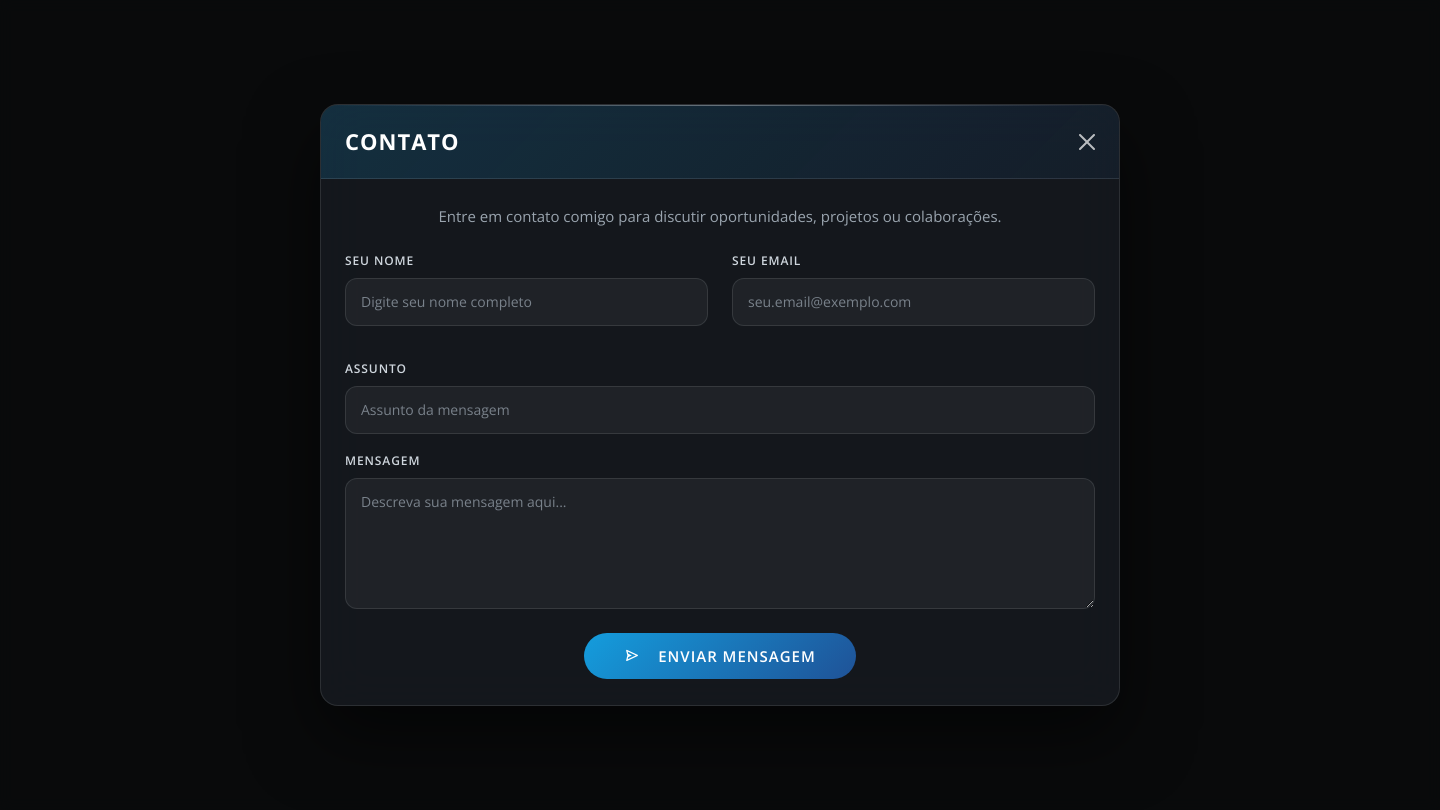
Test: <ContactModal /> › mostra erro e preserva o texto digitado quando o envio falha
This screenshot has width=1440, height=810.
Step 1. Type "Maria Souza" into the field labelled "Seu Nome" → (526, 302), box [345,278,708,326]
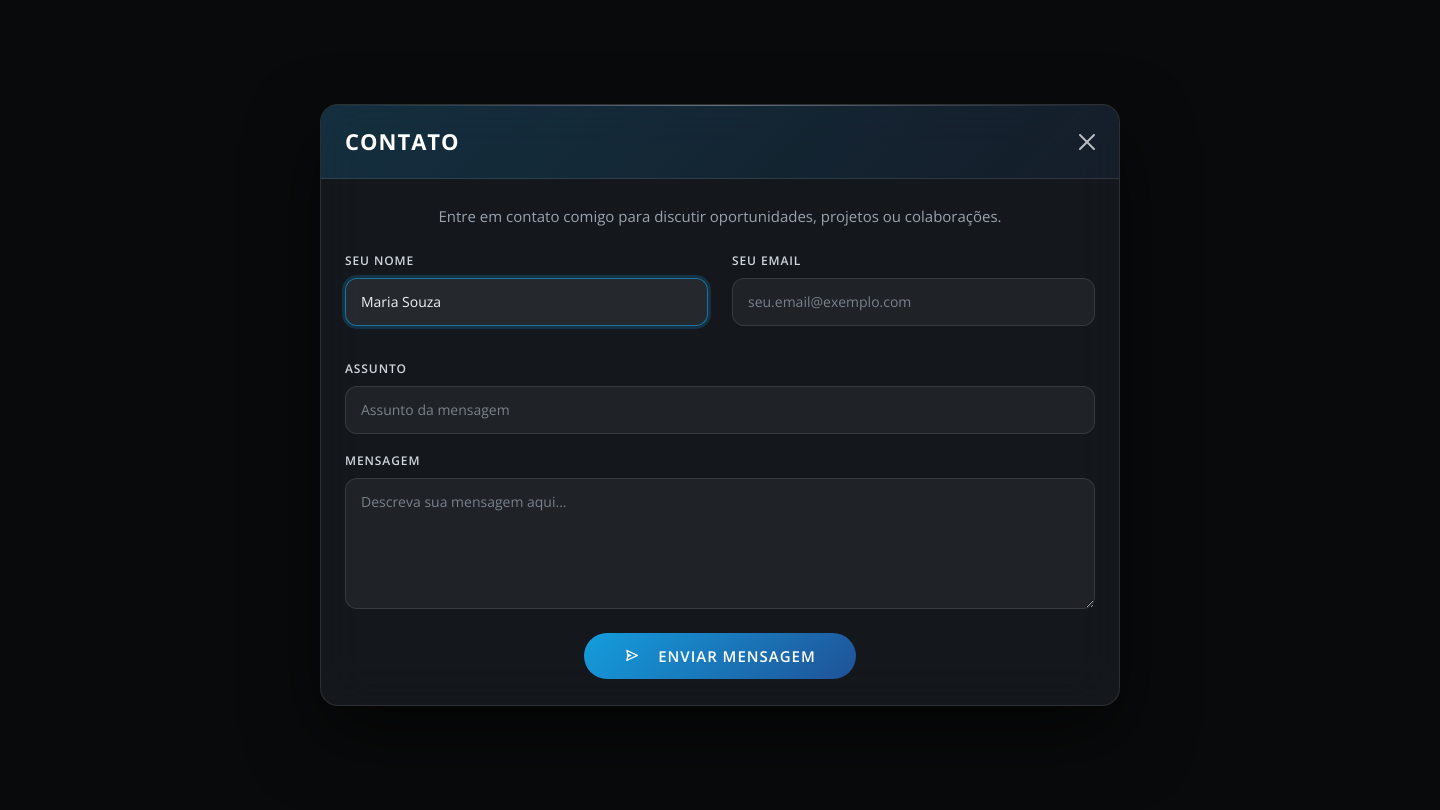
Step 2. Type "maria@exemplo.com" into the field labelled "Seu Email" → (914, 302), box [732,278,1095,326]
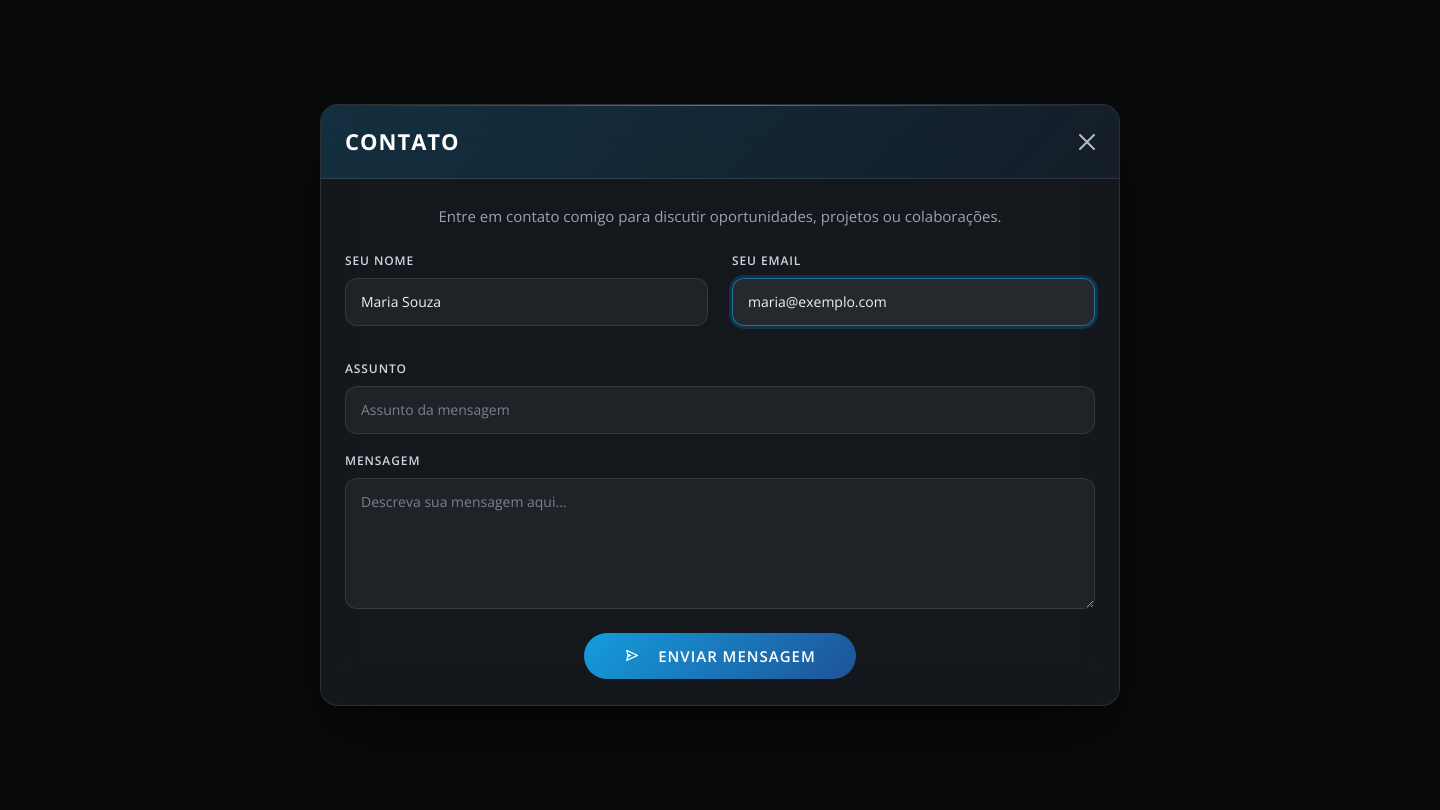
Step 3. Type "Oportunidade" into the field labelled "Assunto" → (720, 410), box [345,386,1095,434]
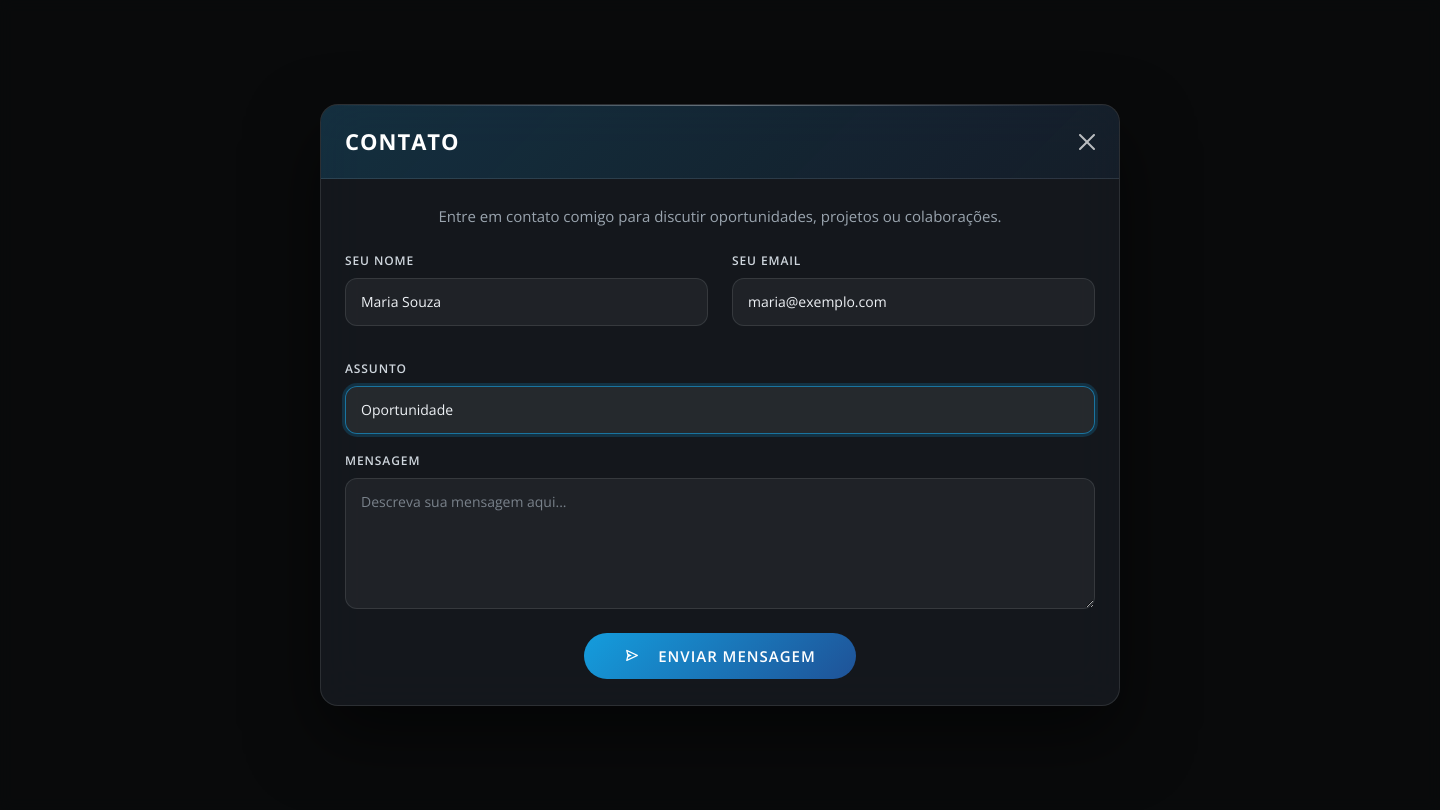
Step 4. Type "Olá, temos uma vaga de QA." into the text box labelled "Mensagem" → (720, 543), box [345,478,1095,608]
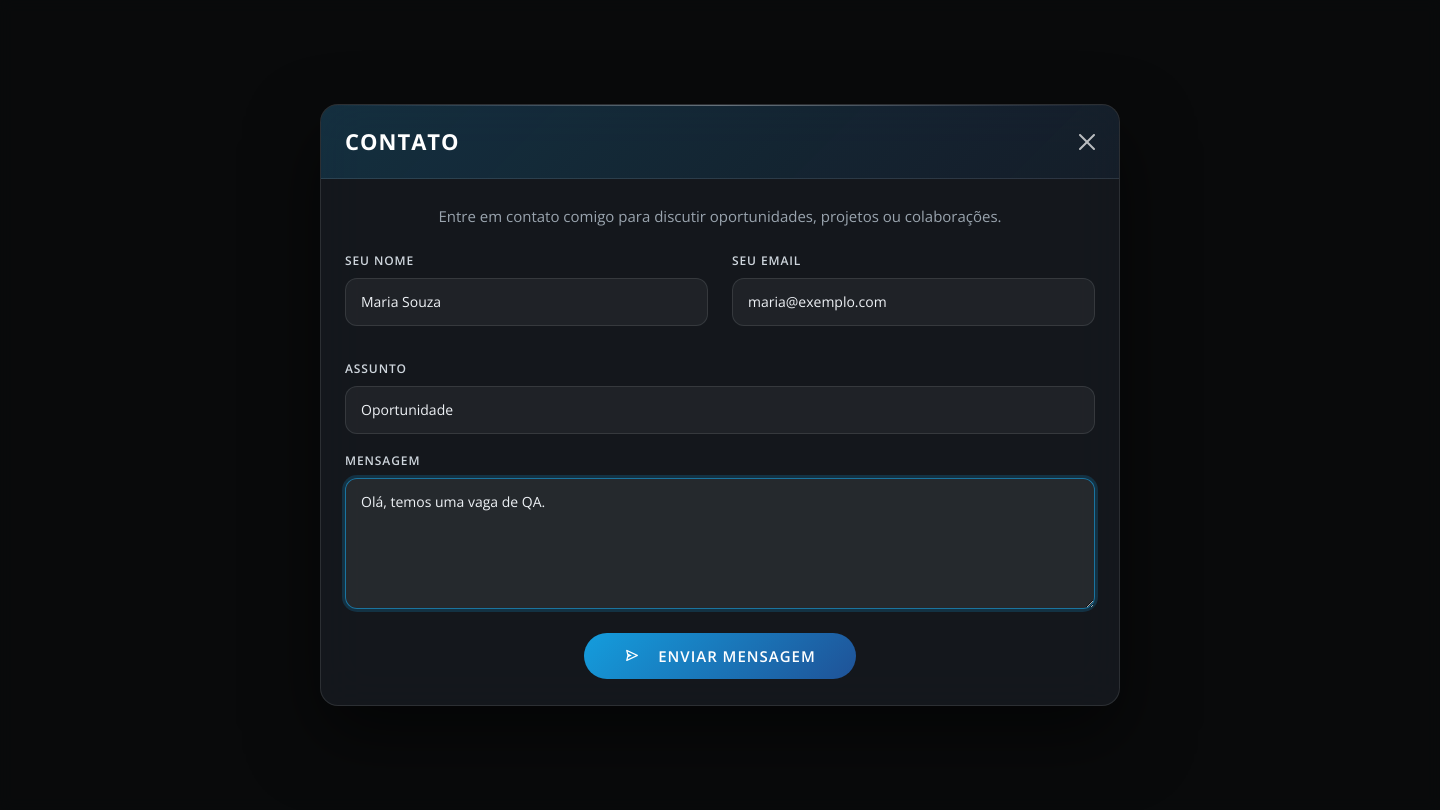
Step 5. Click the button "Enviar Mensagem" → (720, 656), box [584,632,856,679]
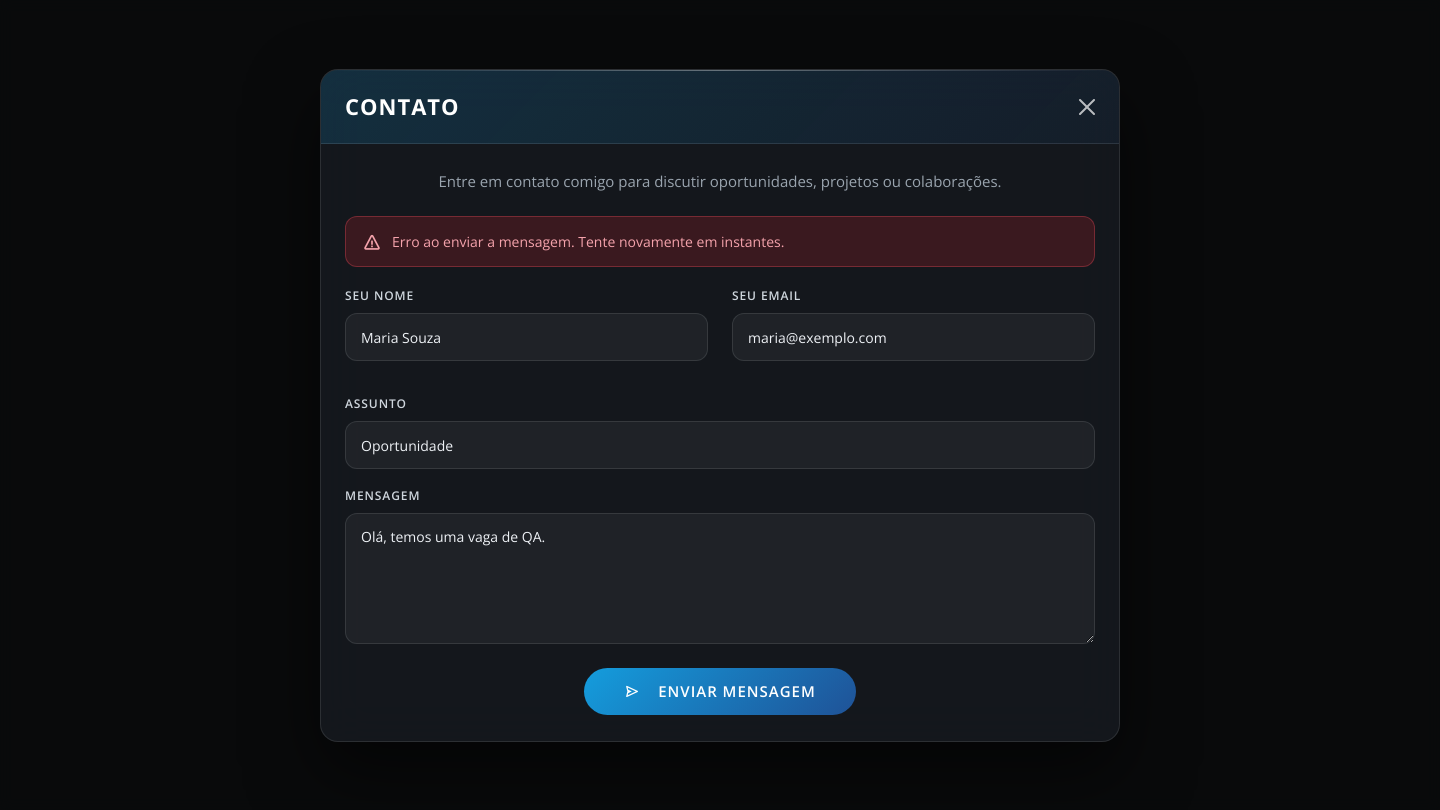
Now the text "Erro ao enviar a mensagem. Tente novamente em instantes." is shown, box [345,216,1095,267]
